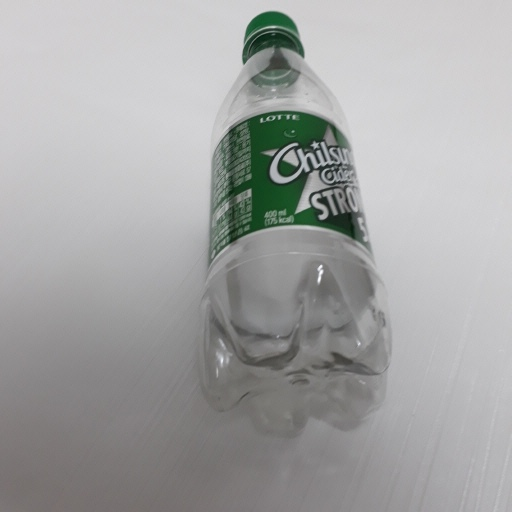Plastic_0: (203, 8, 396, 441)
